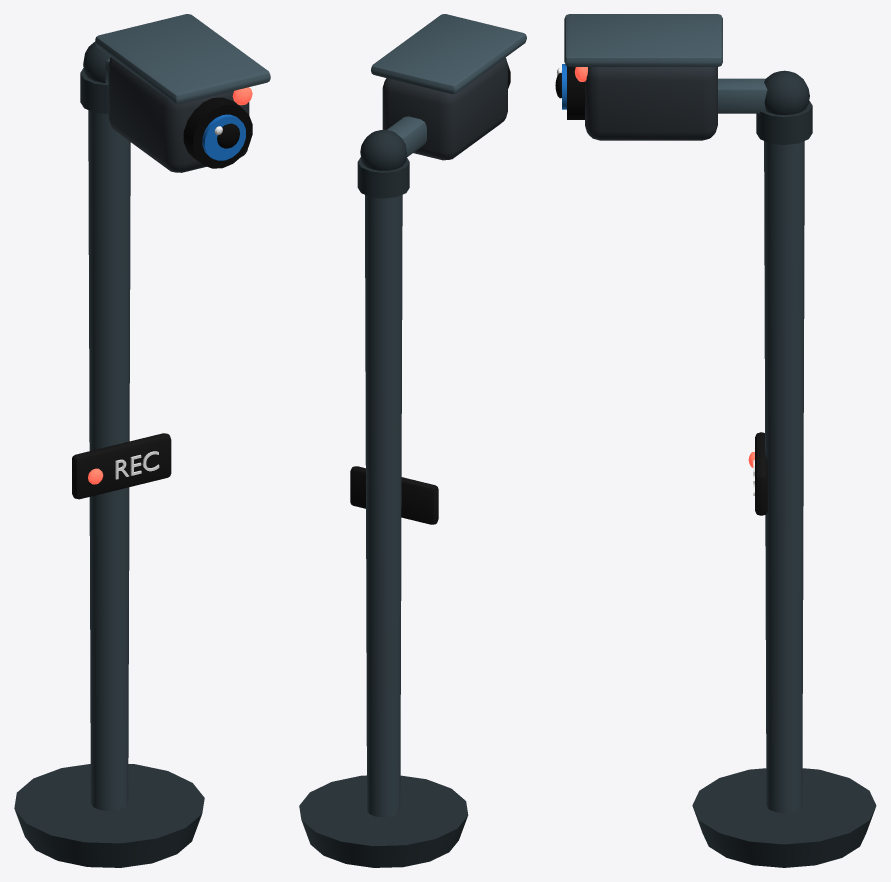
Rendered from parking_camera.glb.
The picture shows the model from 3 angles, left to right: view 1: azimuth 30°, elevation 25°; view 2: azimuth 150°, elevation 25°; view 3: azimuth 270°, elevation 25°; orthographic projection. The views are drawn at different scales.
Parts seen in each view (by area): view 1: CamPole, CamHead; view 2: CamPole, CamHead; view 3: CamPole, CamHead.
Part boxes in pixels (bbox=[...]): CamPole: bbox=[14, 68, 204, 867]; CamHead: bbox=[83, 14, 270, 172]; CamPole: bbox=[299, 157, 468, 867]; CamHead: bbox=[360, 14, 526, 170]; CamPole: bbox=[692, 101, 876, 867]; CamHead: bbox=[555, 14, 809, 140].
Size of the model in its own units: 0.72 by 3.45 by 1.25.
